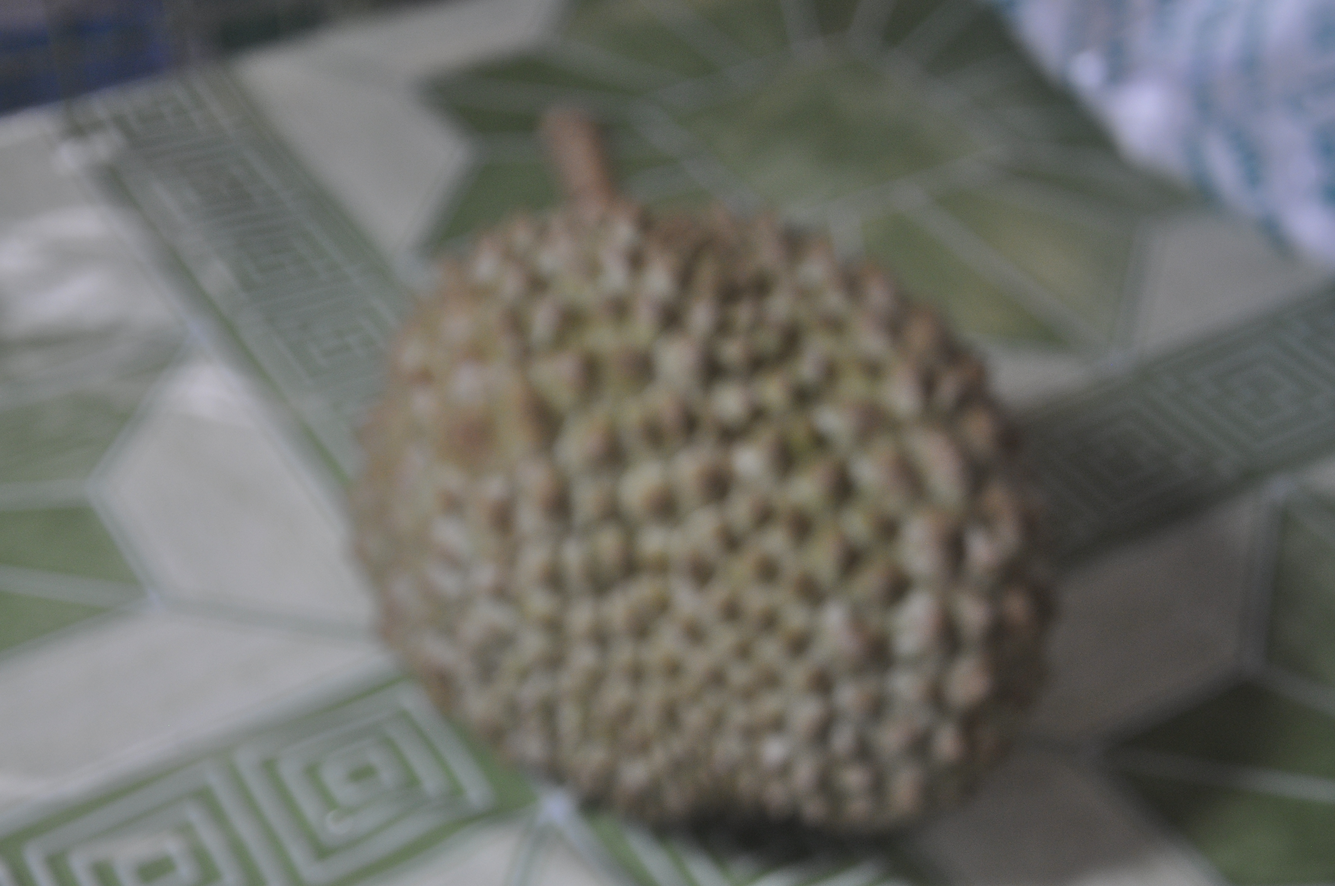mature: (352, 109, 1051, 830)
